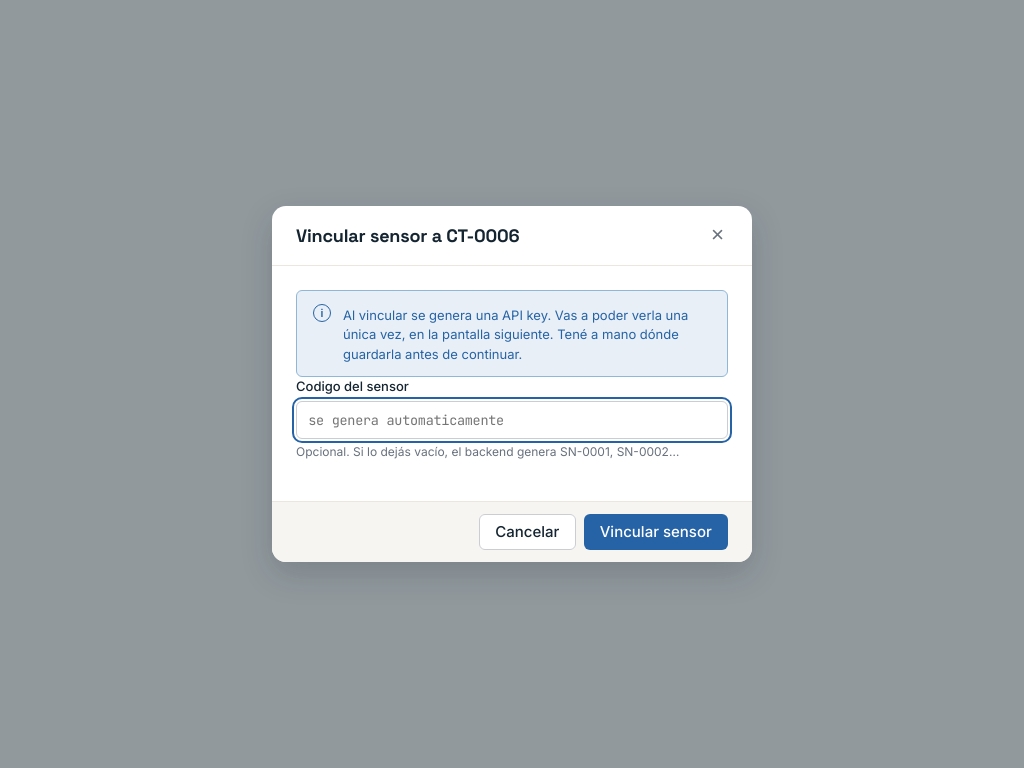
it: vincular sensor y mostrar la API key › si el contenedor ya tiene sensor muestra el 409 y no revela ninguna clave
Click the button "Vincular sensor".
click(656, 532)  # box [584,514,728,550]
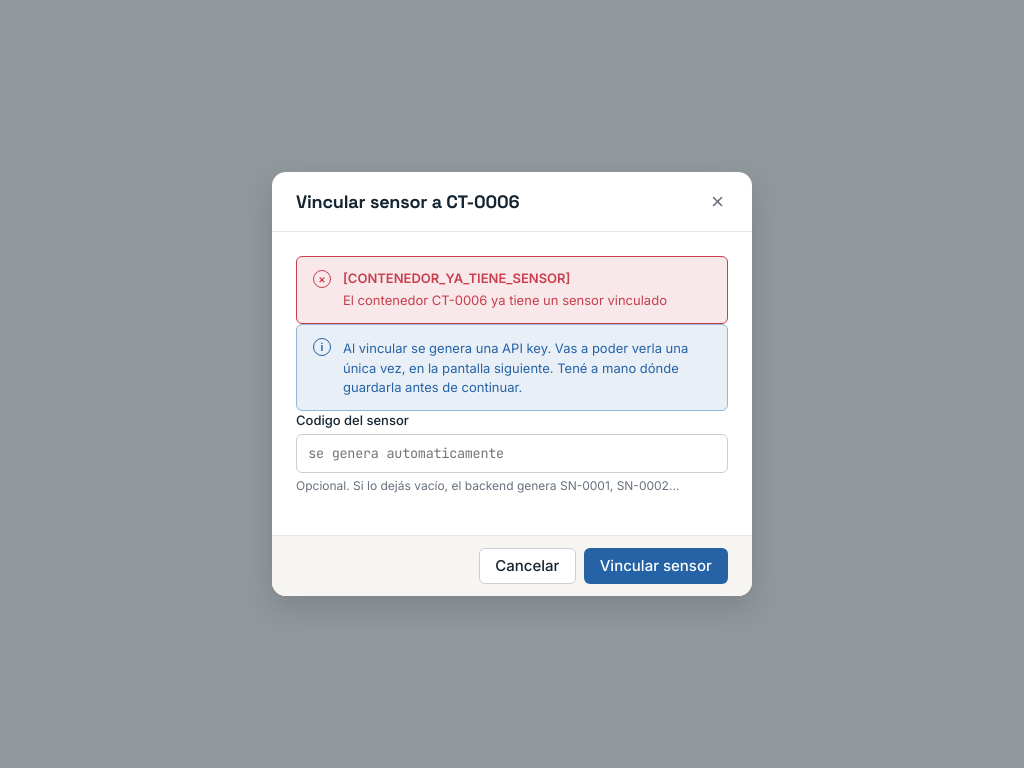
Check: the text "[CONTENEDOR_YA_TIENE_SENSOR]" is shown, box [343,270,570,286]
